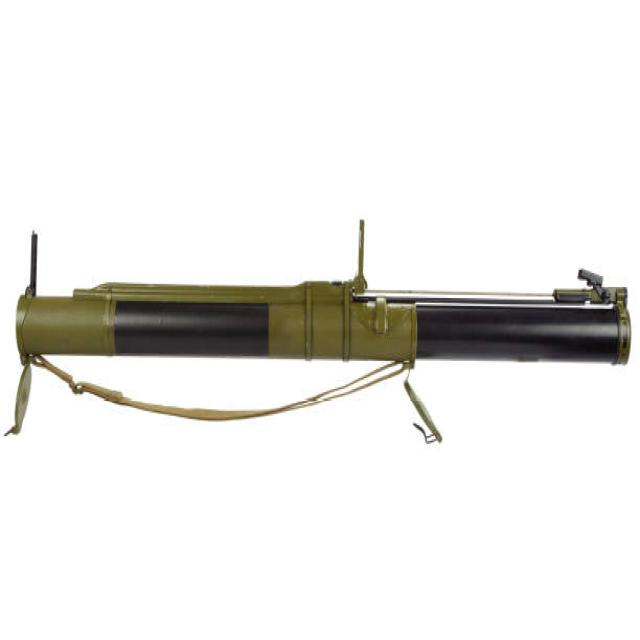bazooka: (1, 205, 636, 456)
